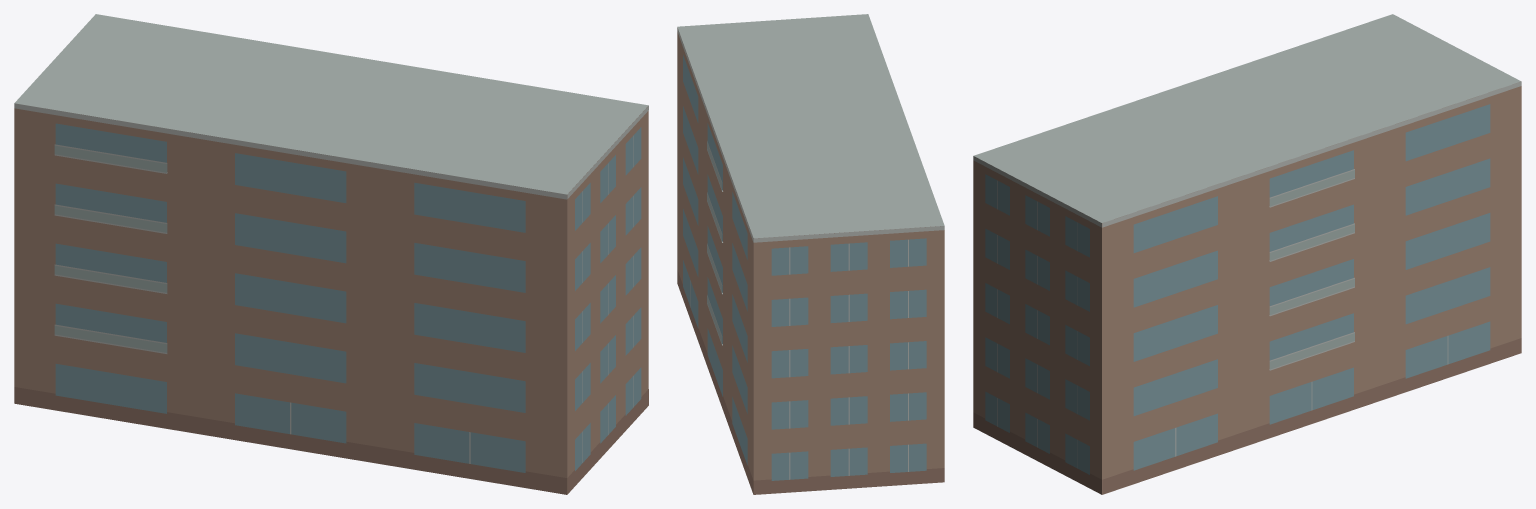
The model's file is survey-upis-32740596.glb.
The picture shows the model from 3 angles, left to right: view 1: azimuth 30°, elevation 25°; view 2: azimuth 150°, elevation 25°; view 3: azimuth 270°, elevation 25°; orthographic projection. The views are drawn at different scales.
Visible parts, largest first — view 1: survey-upis-32740596.tmp; view 2: survey-upis-32740596.tmp; view 3: survey-upis-32740596.tmp.
Part boxes in pixels (<box>): survey-upis-32740596.tmp: <box>14,14,648,494</box>; survey-upis-32740596.tmp: <box>677,14,944,494</box>; survey-upis-32740596.tmp: <box>973,14,1521,494</box>.
Size of the model in its own units: 24.11 by 14.6 by 26.7.
